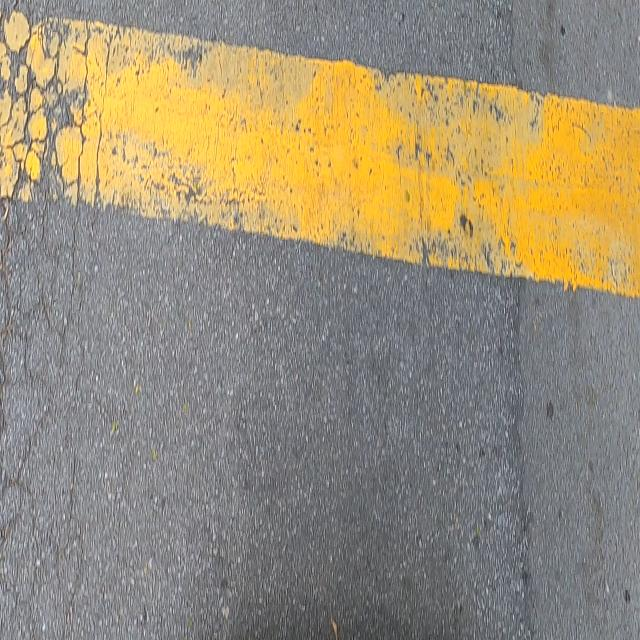Retak-Buaya: (3, 10, 111, 633)
